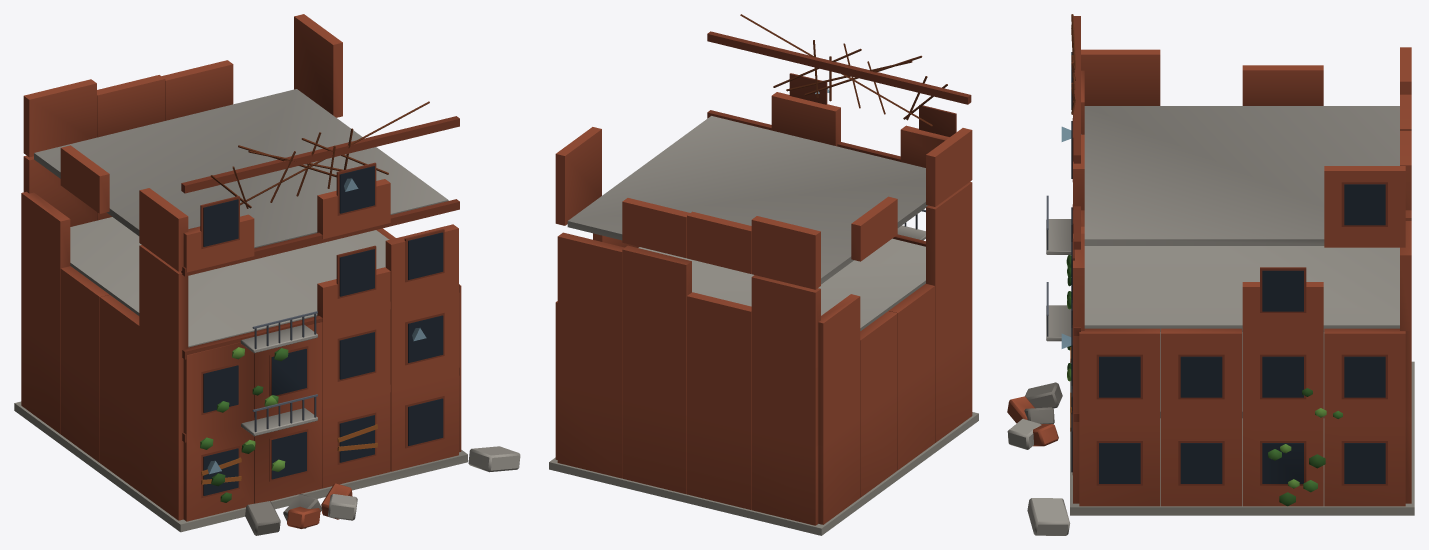
Rendered from p_st_hochhaus_2.glb.
3 renders of one model, left to right at view 1: azimuth 30°, elevation 25°; view 2: azimuth 150°, elevation 25°; view 3: azimuth 270°, elevation 25°, orthographic. The views are drawn at different scales.
Visible parts, largest first — view 1: body; view 2: body; view 3: body.
Part boxes in pixels (x1=…): body: x1=14, y1=14, x2=520, y2=535; body: x1=549, y1=14, x2=978, y2=535; body: x1=1007, y1=14, x2=1414, y2=535.
Size of the model in its own units: 13.1 by 14.58 by 13.71.
